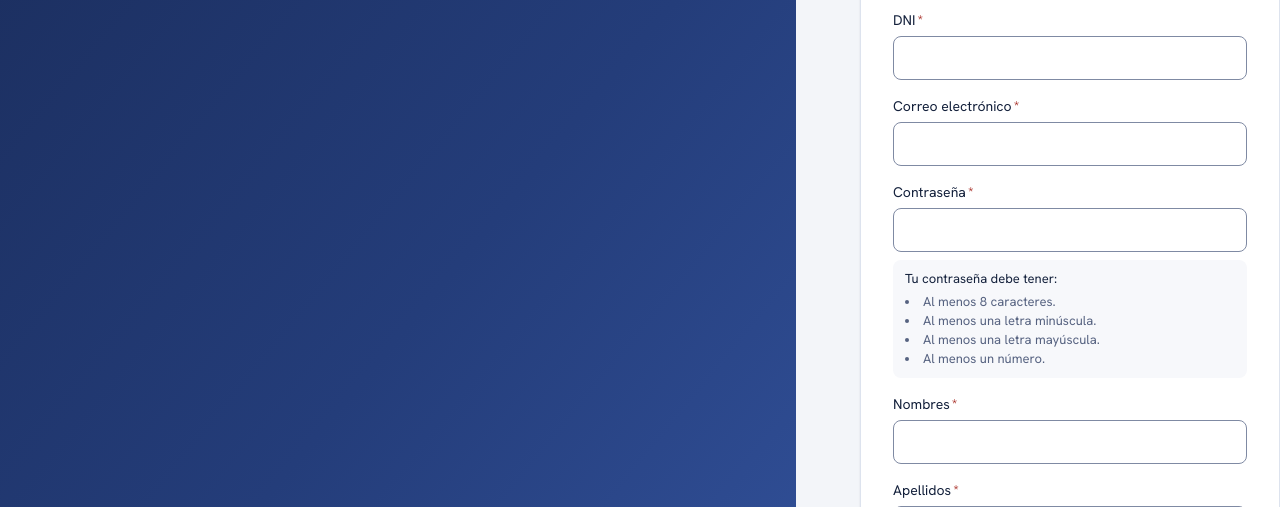
Test: RegisterPage › muestra los errores de validación del backend campo a campo (criterio 3)
Type "10203040" into the field labelled "DNI*" at coordinates (1070, 58), box [893,36,1247,80]
Type "nuevo@example.com" into the field labelled "Correo electrónico*" at coordinates (1070, 144), box [893,122,1247,166]
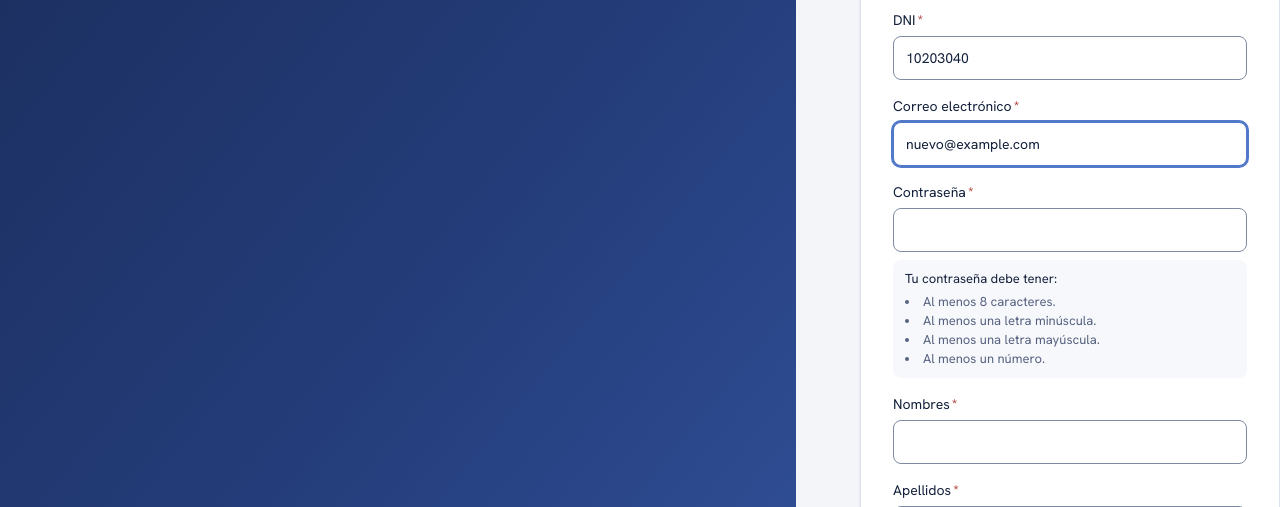
Type "ClaveSegura1" into the password field labelled "Contraseña*" at coordinates (1070, 230), box [893,208,1247,252]
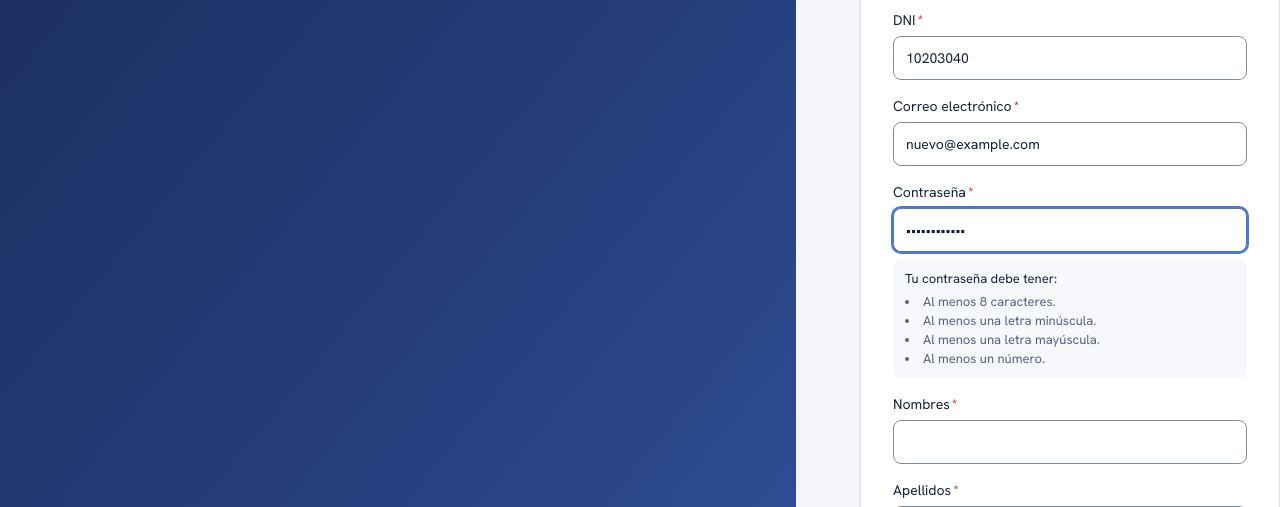
Type "Juan" into the field labelled "Nombres*" at coordinates (1070, 442), box [893,420,1247,464]
(page scrolled)
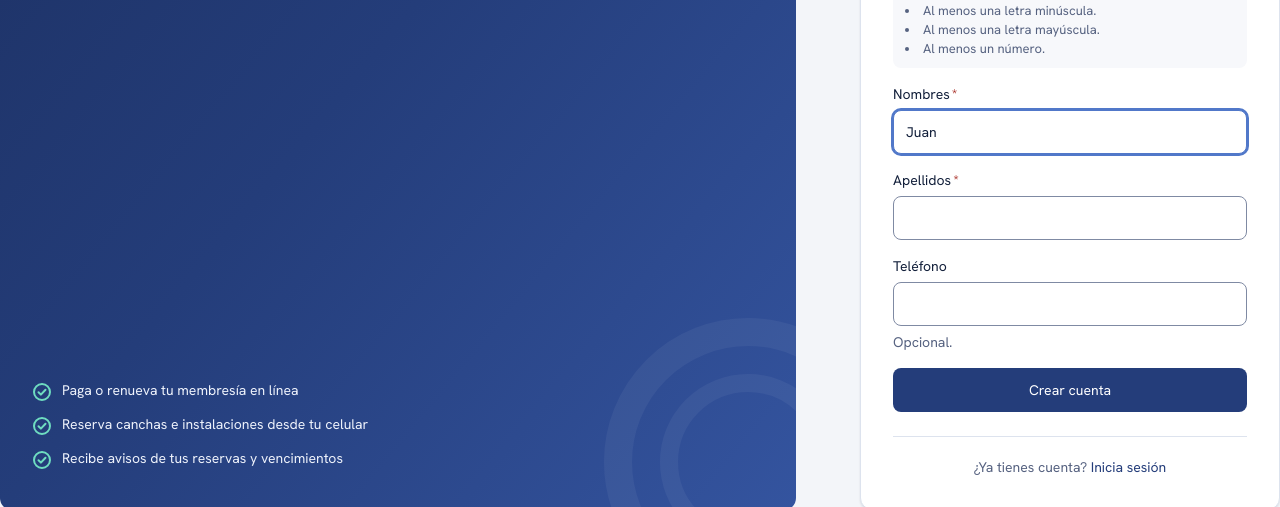
Type "Pérez" into the field labelled "Apellidos*" at coordinates (1070, 218), box [893,196,1247,240]
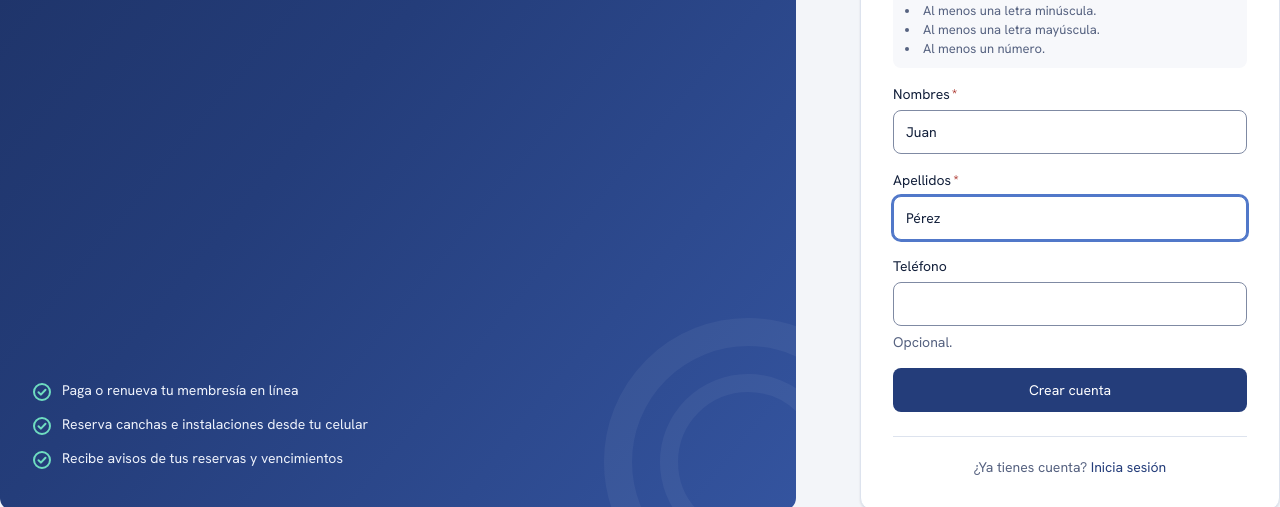
Type "999000111" into the field labelled "Teléfono" at coordinates (1070, 304), box [893,282,1247,326]
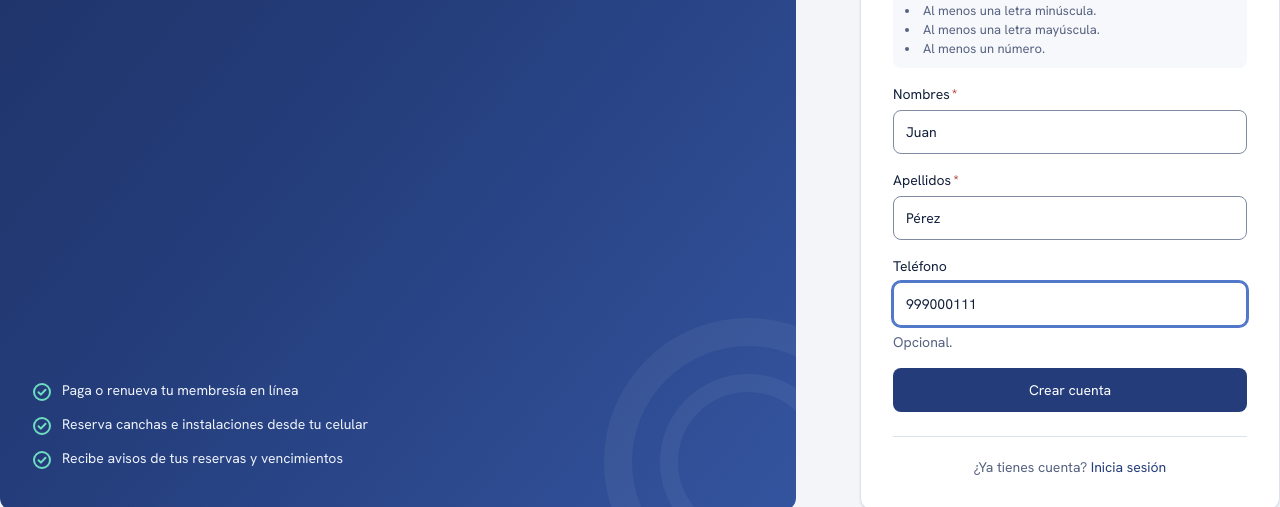
Click the button "Crear cuenta" at coordinates (1070, 390), box [893,368,1247,412]
(page scrolled)
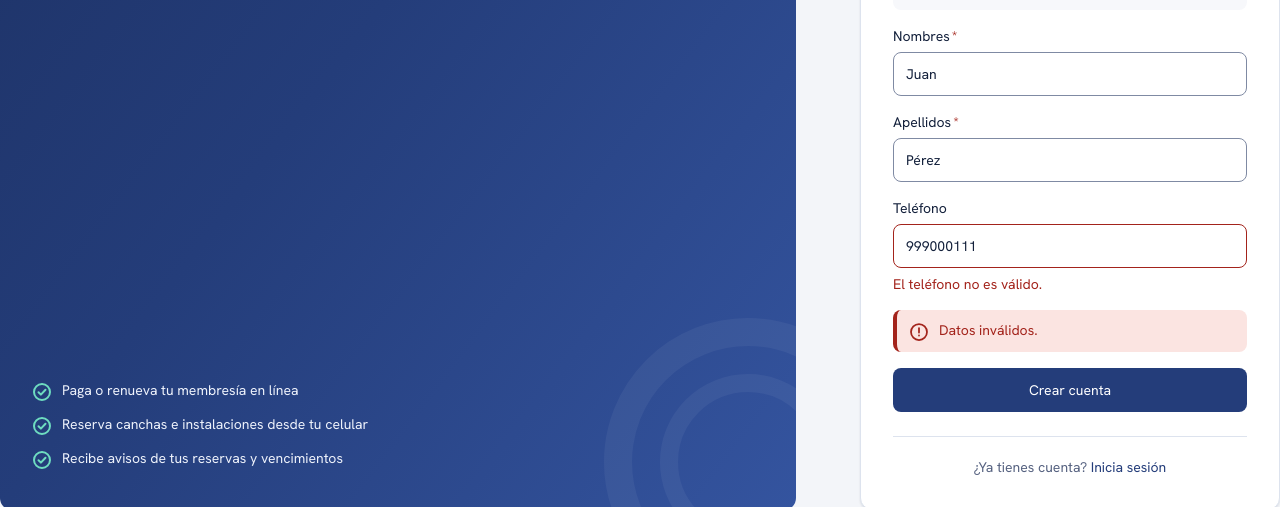
Now the text "El teléfono no es válido." is shown, box [893,275,1042,293]
